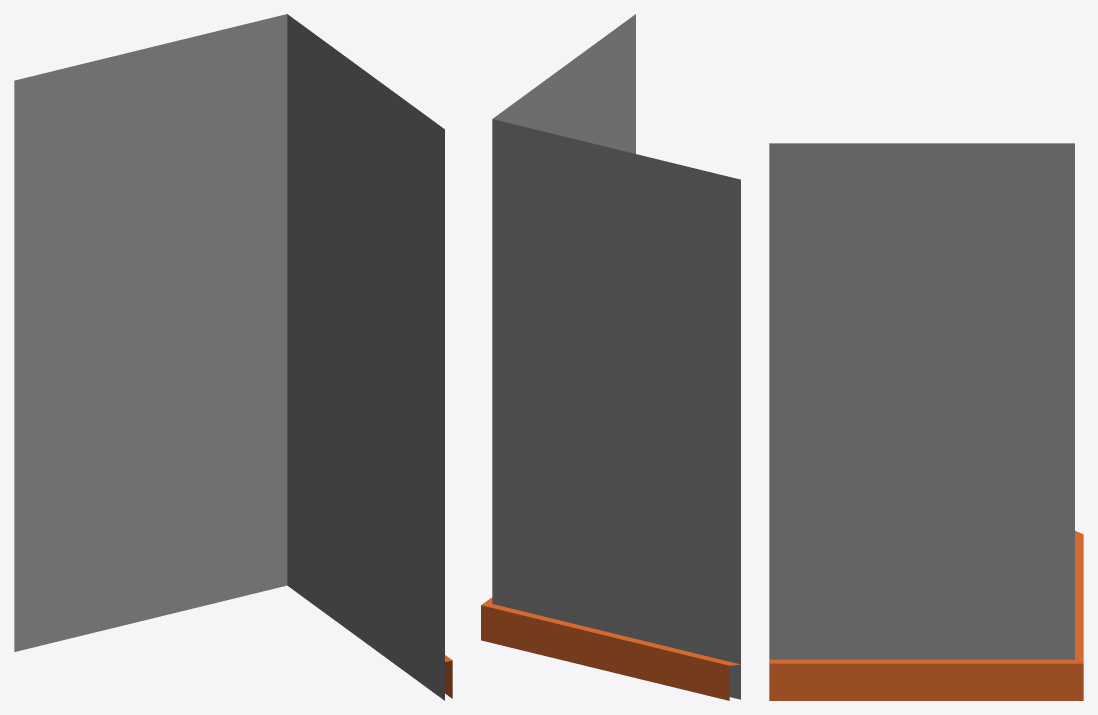
Rendered from ModuleD_corner_inver1.FBX.
3 views of the same model, side by side, from view 1: azimuth 30°, elevation 25°; view 2: azimuth 150°, elevation 25°; view 3: azimuth 270°, elevation 25° (orthographic). The views are drawn at different scales.
Parts seen in each view (by area): view 1: ModuleD_wall_09; view 2: ModuleD_wall_09, ModuleD_skboard_02; view 3: ModuleD_wall_09, ModuleD_skboard_02.
Part boxes in pixels (bbox=[...]): ModuleD_wall_09: bbox=[14, 14, 444, 700]; ModuleD_wall_09: bbox=[492, 14, 740, 699]; ModuleD_skboard_02: bbox=[481, 597, 740, 700]; ModuleD_wall_09: bbox=[769, 143, 1074, 659]; ModuleD_skboard_02: bbox=[769, 531, 1083, 700].
Size of the model in its own units: 40.49 by 40.52 by 78.74.
